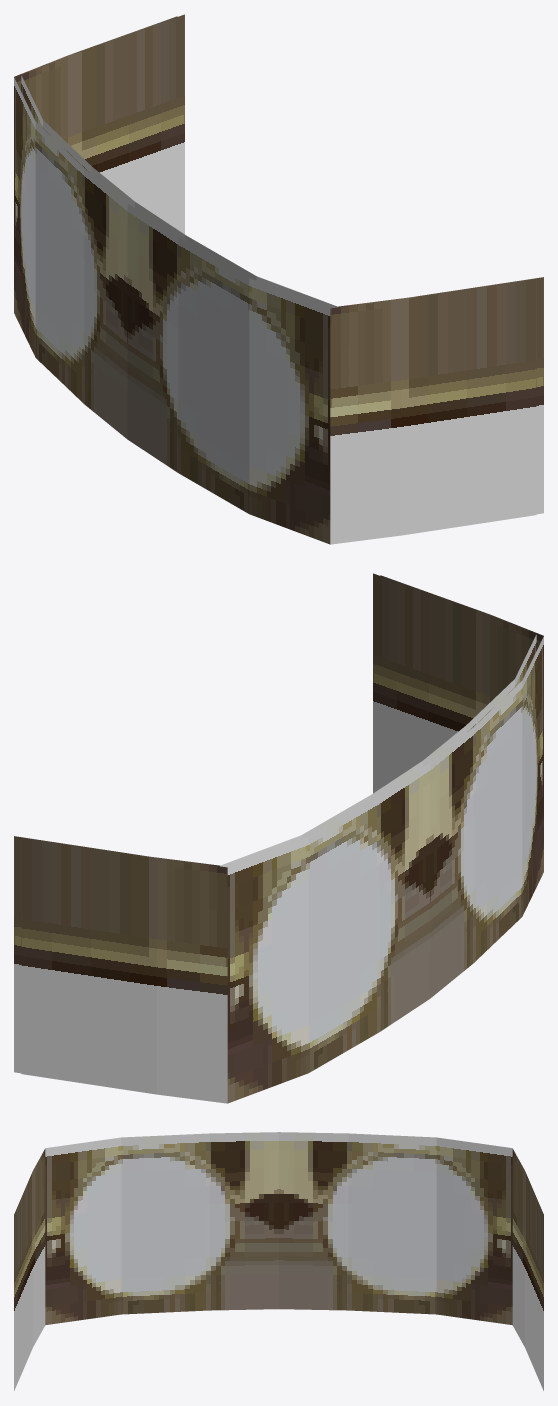
The model's file is Wolf_glasses.obj.
3 renders of one model, top to bottom at view 1: azimuth 30°, elevation 25°; view 2: azimuth 150°, elevation 25°; view 3: azimuth 270°, elevation 25°, orthographic. The views are drawn at different scales.
Visible parts, largest first — view 1: Wolf_glasses_tri; view 2: Wolf_glasses_tri; view 3: Wolf_glasses_tri.
Boxes of the visible parts, x1=… form: Wolf_glasses_tri: x1=14, y1=14, x2=543, y2=544; Wolf_glasses_tri: x1=14, y1=573, x2=543, y2=1103; Wolf_glasses_tri: x1=14, y1=1132, x2=543, y2=1390.
Size of the model in its own units: 0.064 by 0.061 by 0.168.
1 material, 1 textured.
